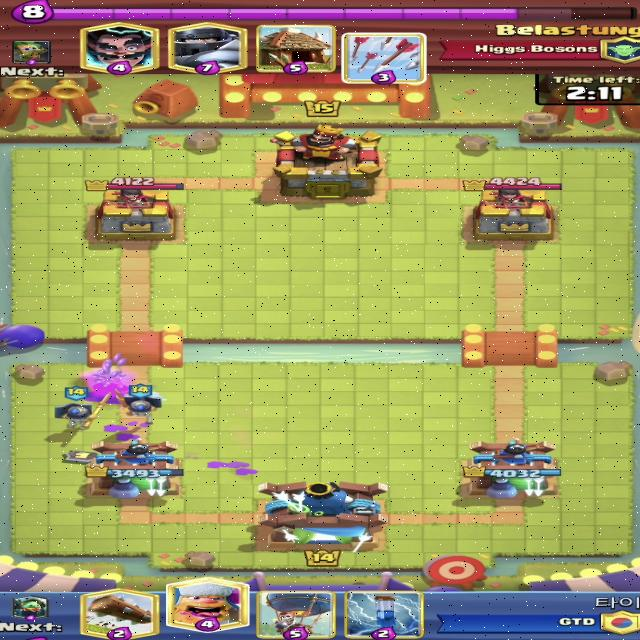Player-Guard: (52, 385, 113, 432), (113, 384, 163, 426)
